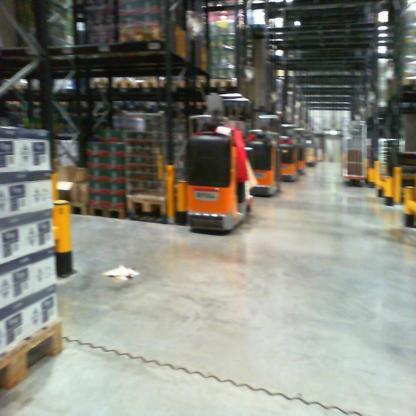pallet: (1, 314, 68, 398), (111, 21, 167, 95), (124, 189, 177, 215), (204, 77, 244, 98), (86, 200, 124, 220), (178, 75, 207, 95), (62, 197, 88, 216), (131, 78, 159, 92), (158, 73, 181, 89), (89, 82, 111, 94)
pallet_truck: (181, 103, 261, 244), (241, 107, 285, 202), (271, 119, 299, 188), (291, 123, 310, 177)
